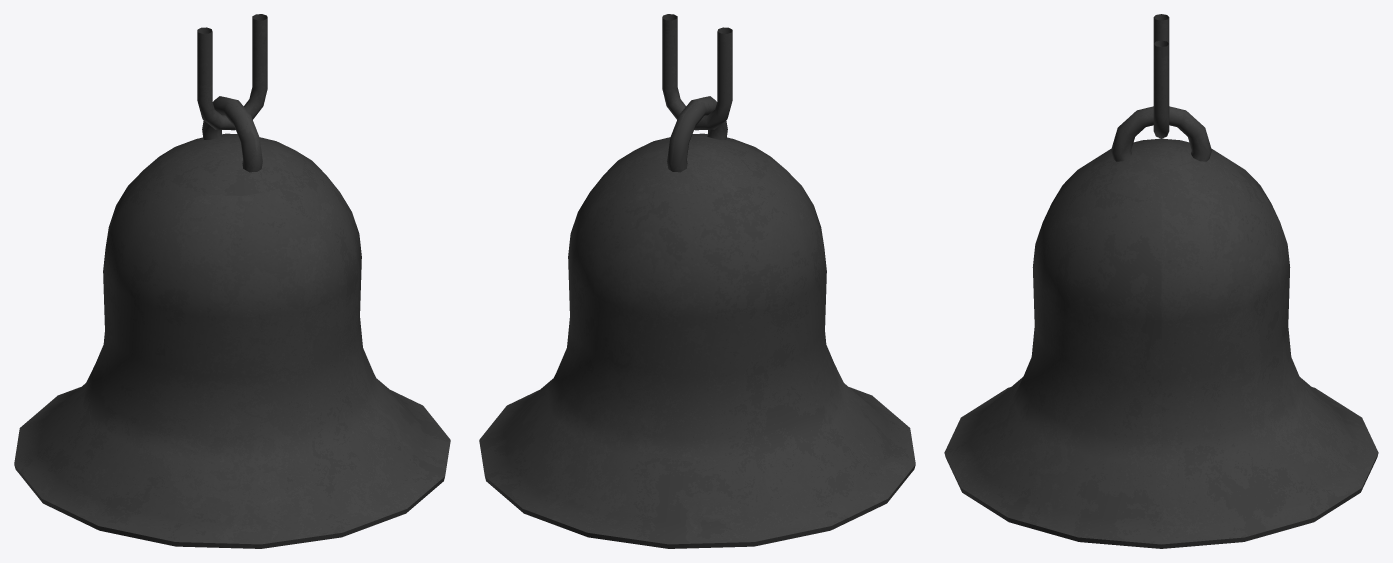
The model's file is SM_Bell.fbx.
The picture shows the model from 3 angles, left to right: view 1: azimuth 30°, elevation 25°; view 2: azimuth 150°, elevation 25°; view 3: azimuth 270°, elevation 25°; orthographic projection.
Parts seen in each view (by area): view 1: SM_Bell_LOD0; view 2: SM_Bell_LOD0; view 3: SM_Bell_LOD0.
Boxes of the visible parts, x1,y1,x2,y2 form: SM_Bell_LOD0: (14, 14, 450, 548); SM_Bell_LOD0: (479, 14, 915, 548); SM_Bell_LOD0: (944, 14, 1378, 548).
Size of the model in its own units: 98.54 by 98.54 by 107.
1 material, 1 textured.
